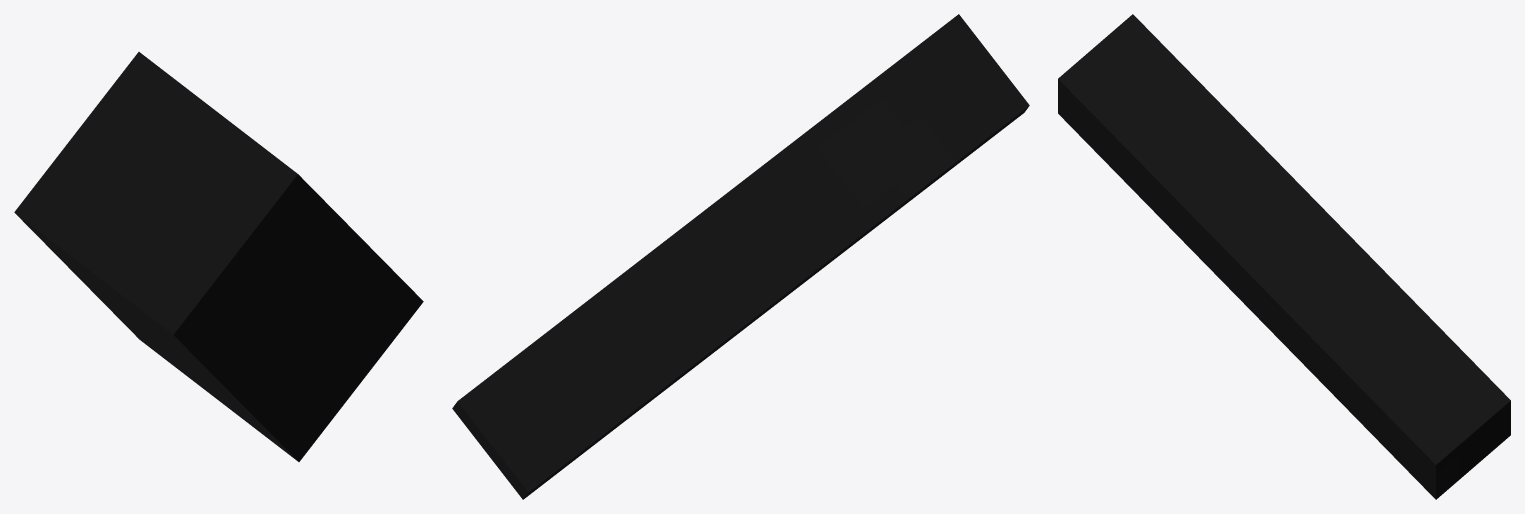
File: support_arm__support_web_0.glb
3 renders of one model, left to right at view 1: azimuth 30°, elevation 25°; view 2: azimuth 150°, elevation 25°; view 3: azimuth 270°, elevation 25°, orthographic. The views are drawn at different scales.
Visible parts, largest first — view 1: world; view 2: world; view 3: world.
Part boxes in pixels (x1,y1,x2,y2): world: (14,52,423,461); world: (452,14,1029,499); world: (1058,14,1510,499).
Size of the model in its own units: 0.1415 by 0.1415 by 0.1558.
Materials: 1 (1 with a texture image).
